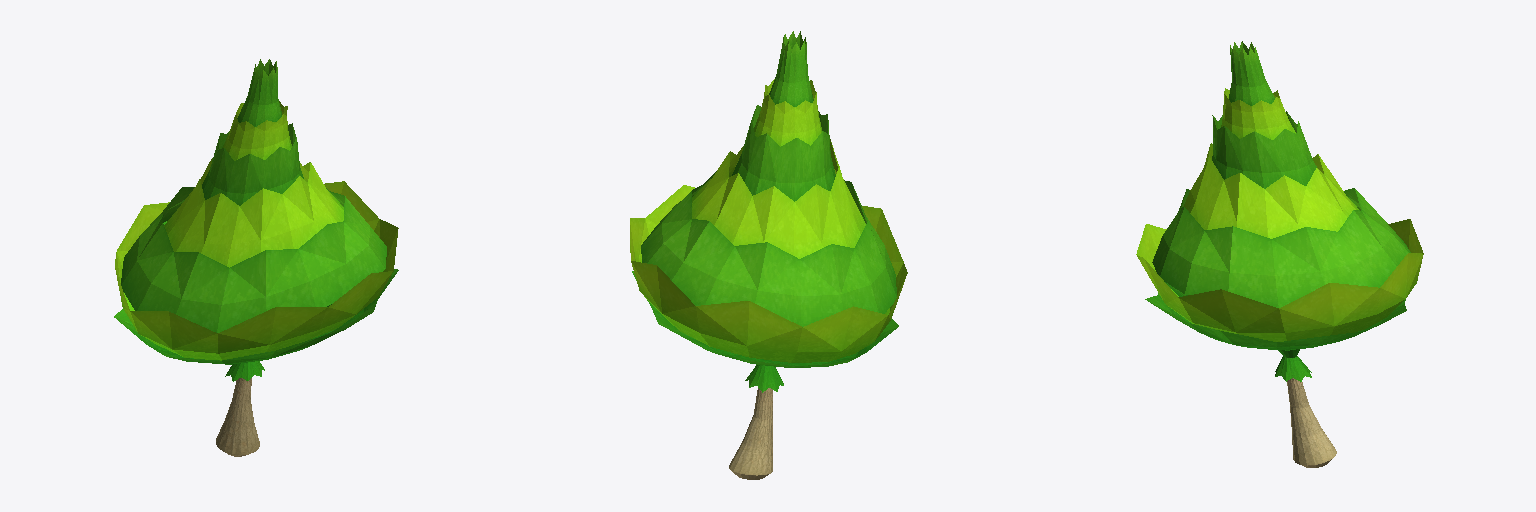
3 views of the same model, side by side, from view 1: azimuth 30°, elevation 25°; view 2: azimuth 150°, elevation 25°; view 3: azimuth 270°, elevation 25° (orthographic).
Visible parts, largest first — view 1: CarbonTree_Circle; view 2: CarbonTree_Circle; view 3: CarbonTree_Circle.
Boxes of the visible parts, x1,y1,x2,y2 form: CarbonTree_Circle: [114, 59, 398, 456]; CarbonTree_Circle: [630, 31, 907, 479]; CarbonTree_Circle: [1136, 41, 1423, 467].
Bounding box in the file's own units: 1.55 × 2.51 × 1.57.
1 materials, 1 textured.